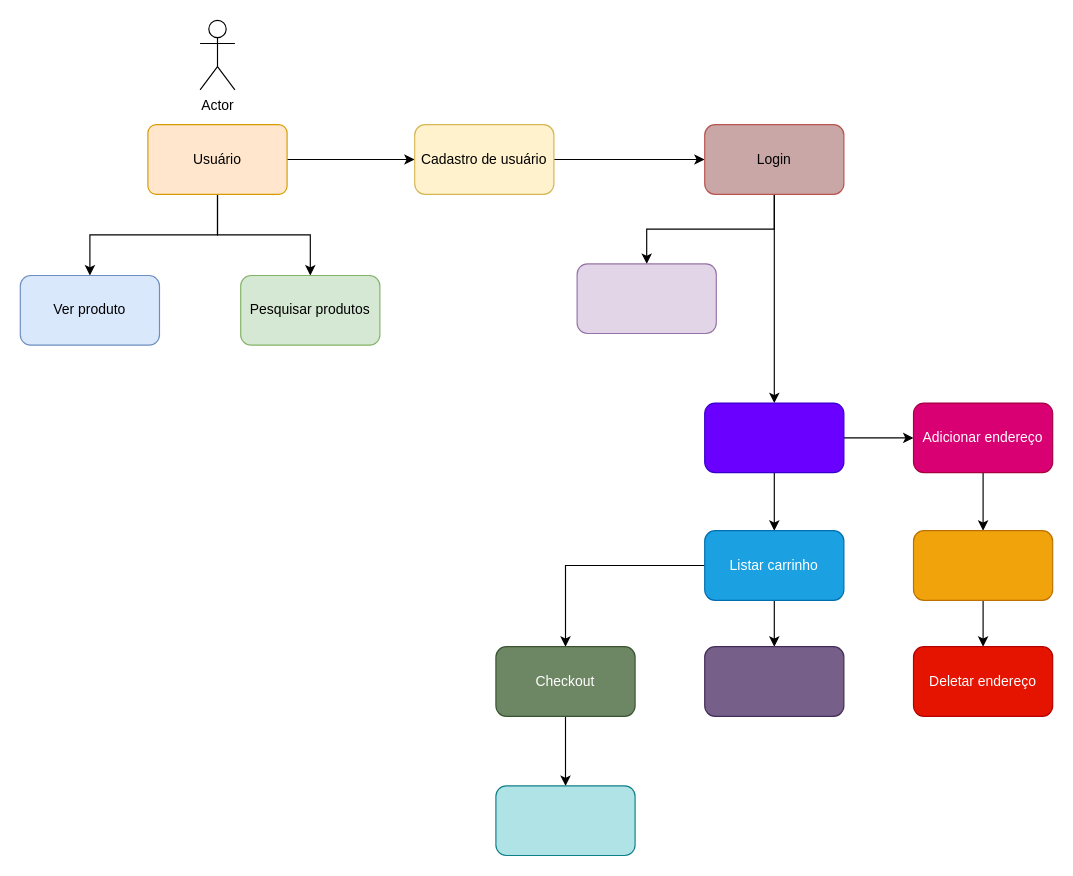
Some shapes in this 1073 by 876 pixel diagram are drawn without their labels. The shapes that lost their labels are listed below. From the top down, each one's centre as x and y in pixels, then its label:
At point 646,298: "Adicionar produtos".
At point 774,437: "Adicionar ao carrinho".
At point 982,565: "Editar endereço".
At point 774,681: "Remover do carrinho".
At point 565,820: "Compra instantânea".
